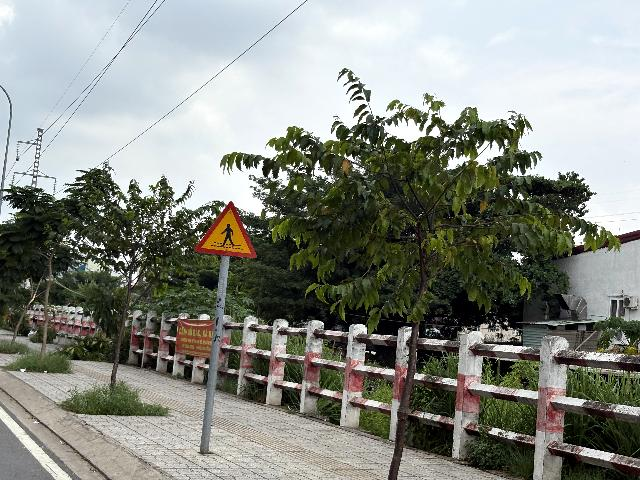duong-nguoi-di-bo-cat-ngang: (194, 200, 257, 259)
